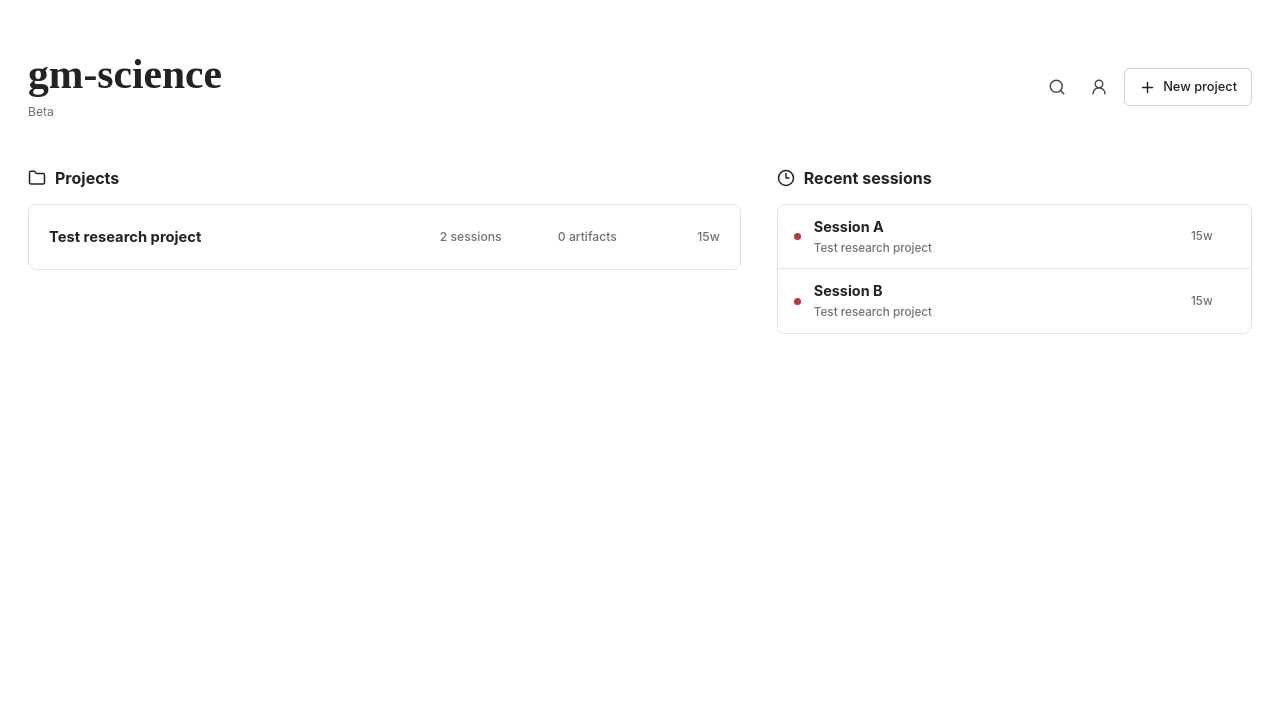
it: App sending state › shows a send error instead of failing silently
Click the button "Test research project 2 sessions 0 artifacts 15w" at (125, 237), box [29,205,740,269]
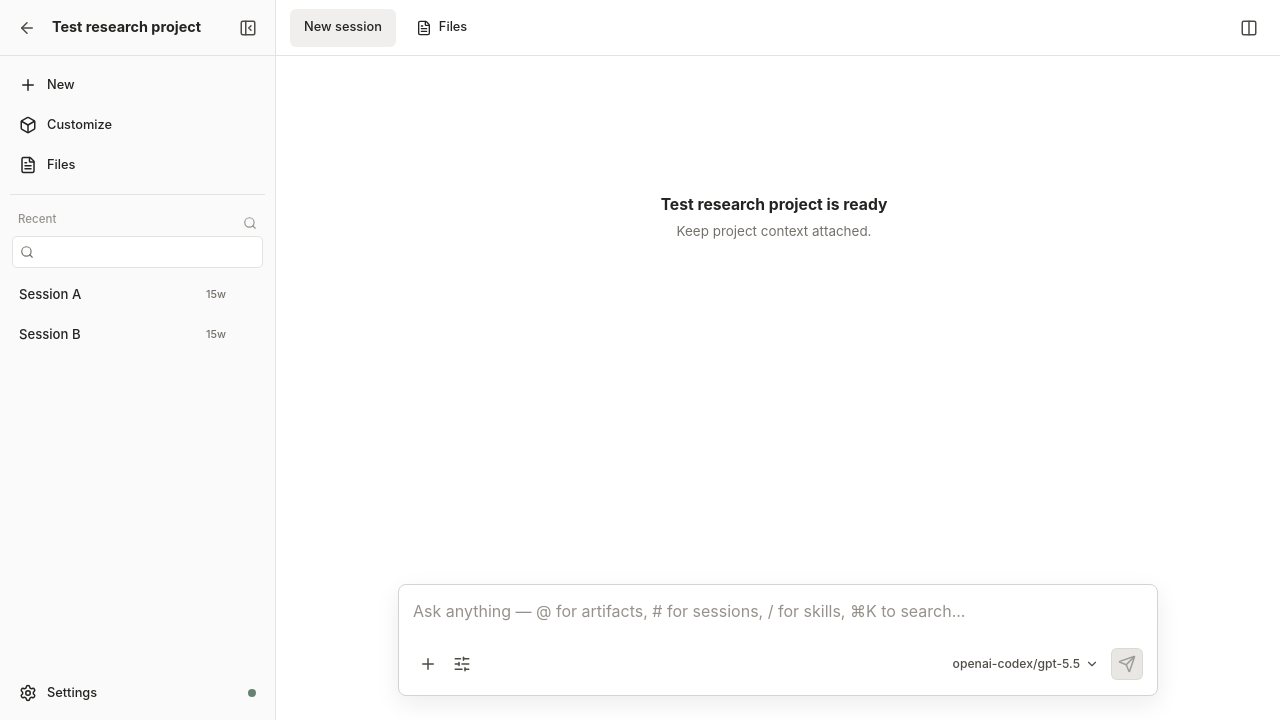
Replace the text in the text box named "Message" with "will fail" at (778, 623), box [413,599,1143,647]
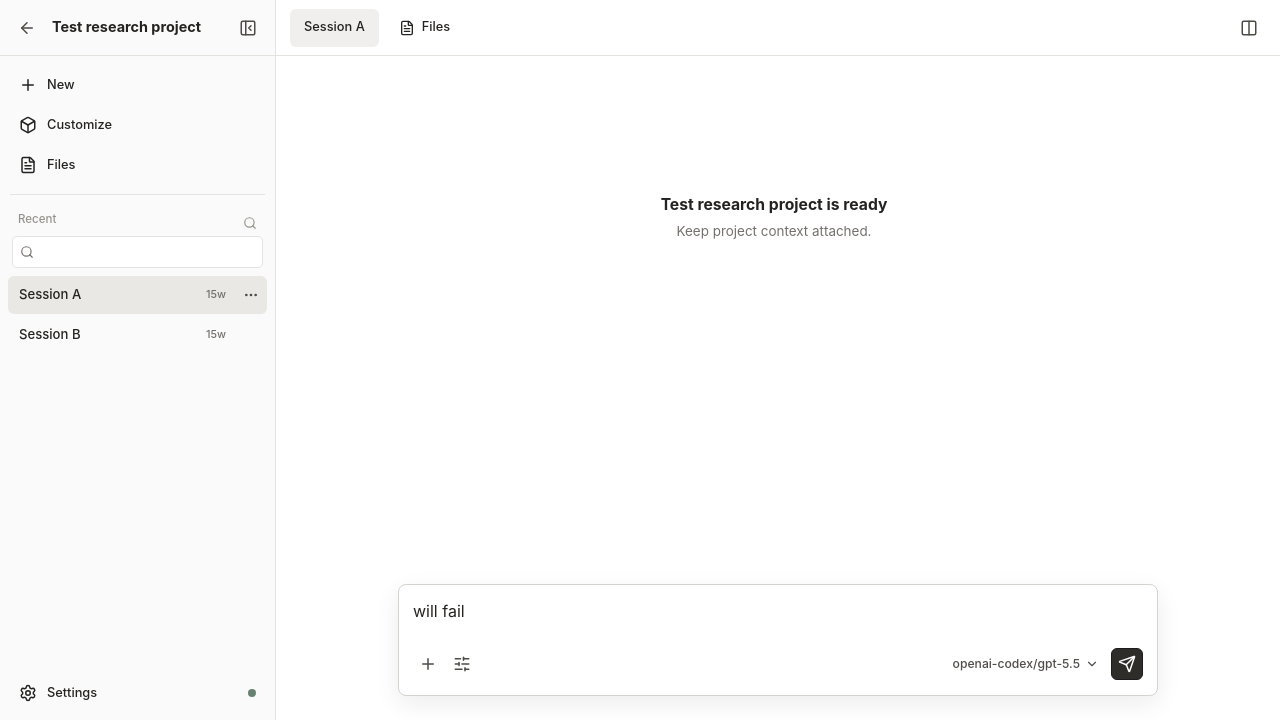
Click the button named "Send" at (1127, 664), box [1111,648,1143,680]
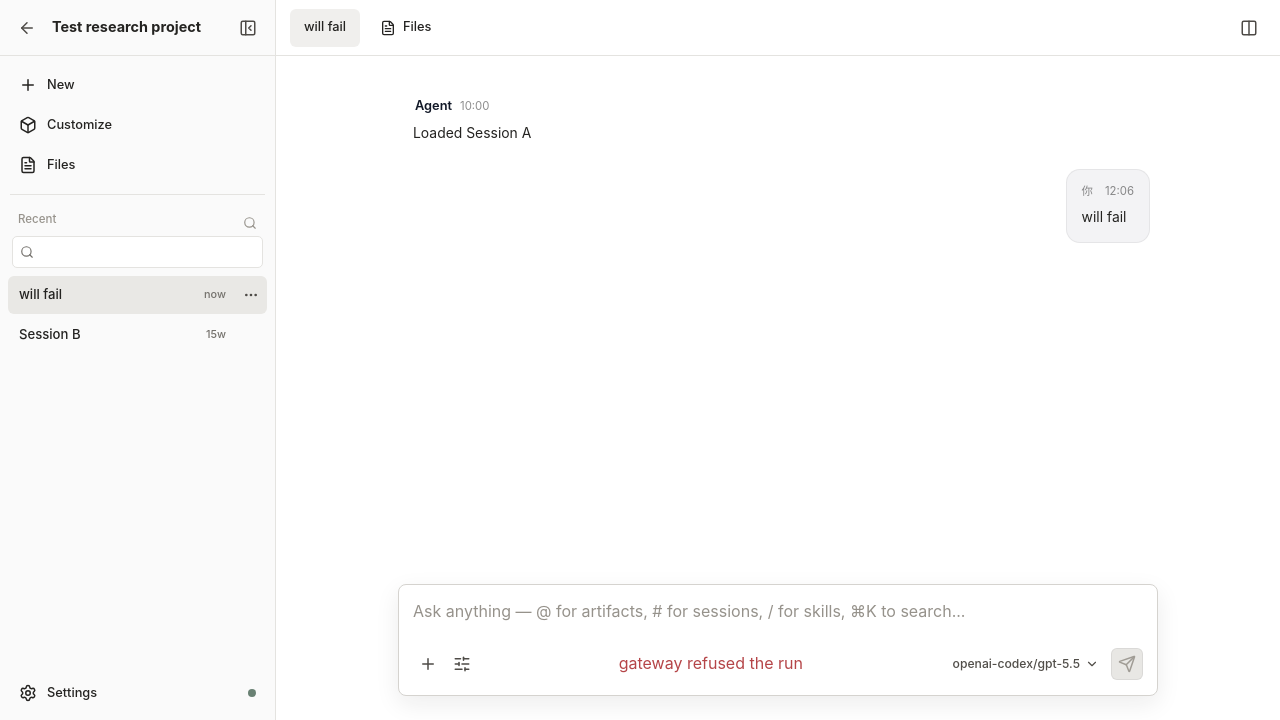
expect the text "gateway refused the run" is shown: met, box [619,652,803,676]
